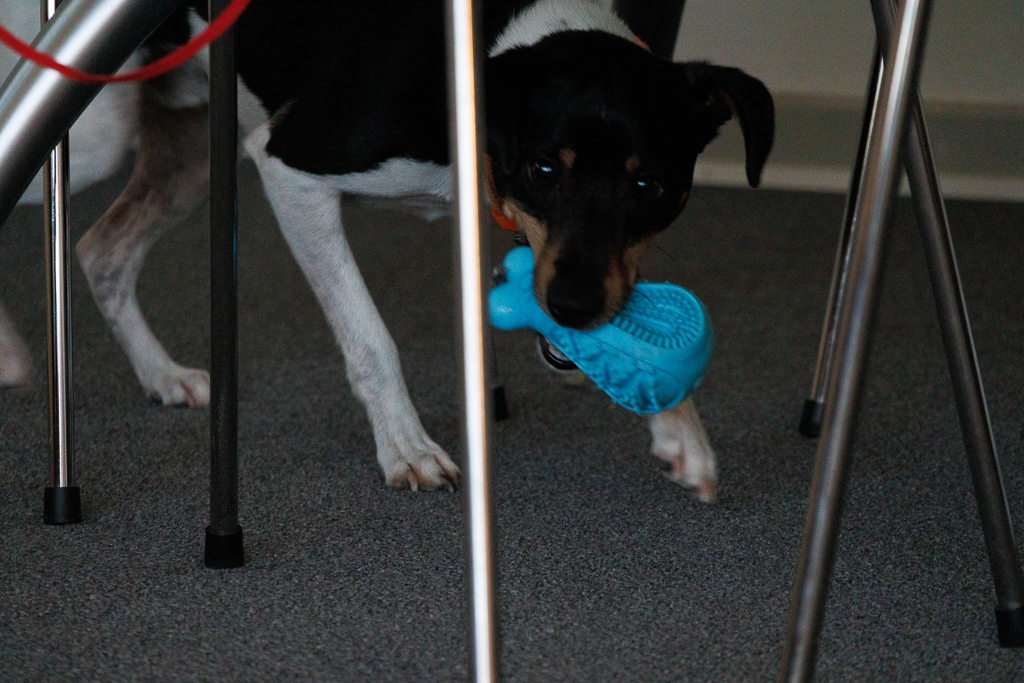Dog: (0, 0, 782, 510)
